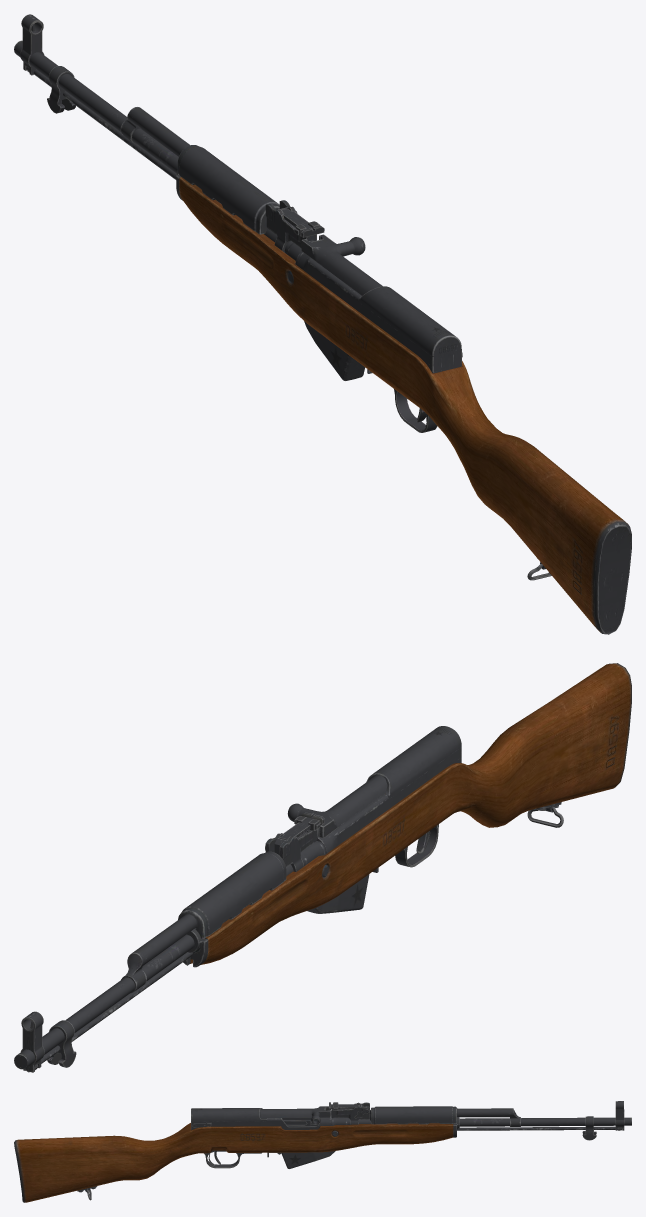
File: SKS.glb
3 renders of one model, top to bottom at view 1: azimuth 30°, elevation 25°; view 2: azimuth 150°, elevation 25°; view 3: azimuth 270°, elevation 25°, orthographic. The views are drawn at different scales.
Visible parts, largest first — view 1: SKS_Body; view 2: SKS_Body; view 3: SKS_Body.
Boxes of the visible parts, x1,y1,x2,y2 form: SKS_Body: [14, 14, 631, 634]; SKS_Body: [14, 663, 631, 1072]; SKS_Body: [14, 1101, 631, 1202].
Bounding box in the file's own units: 0.0534 × 0.1836 × 1.02.
1 material, 1 textured.
